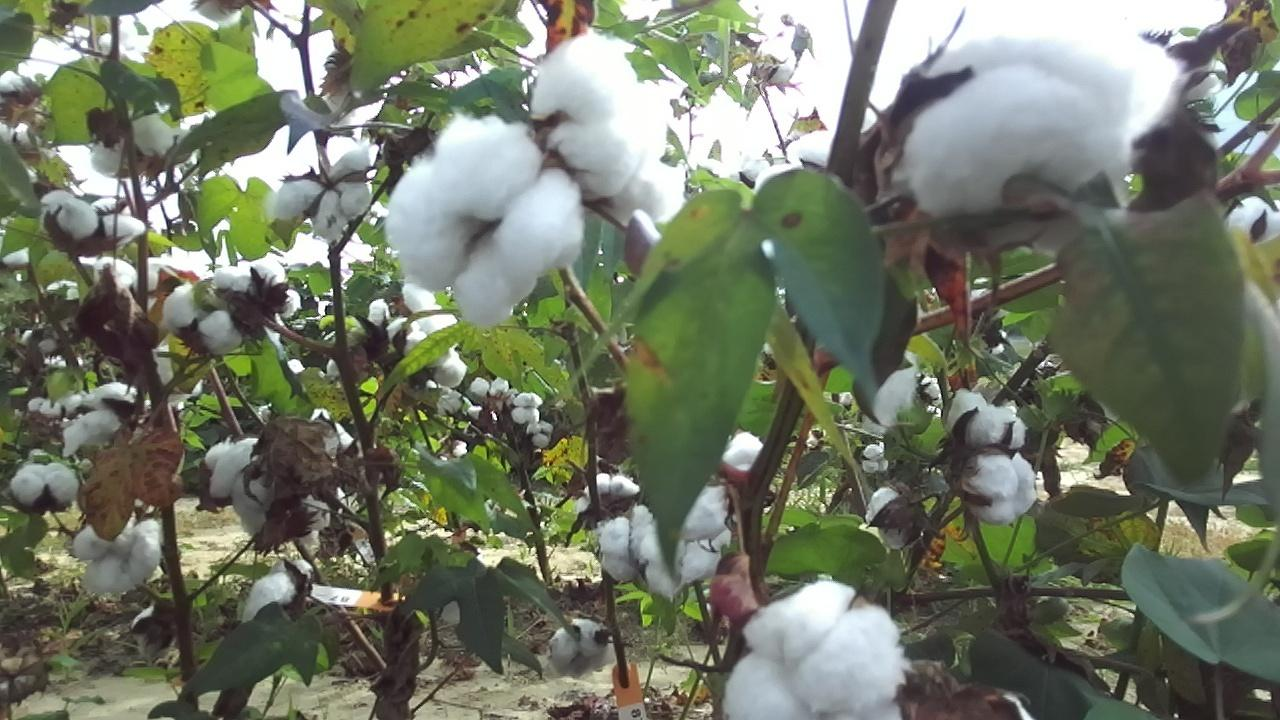cotton_ready: (891, 31, 1138, 221), (390, 119, 578, 325), (535, 31, 687, 226), (723, 576, 906, 720), (599, 487, 731, 594), (273, 145, 375, 244), (372, 287, 468, 390), (71, 515, 161, 597), (208, 433, 273, 536), (62, 381, 145, 459), (166, 278, 245, 356), (41, 189, 144, 241), (242, 558, 315, 630), (970, 454, 1040, 526), (944, 387, 1027, 446), (863, 352, 921, 431), (547, 617, 611, 675), (12, 462, 79, 510)
